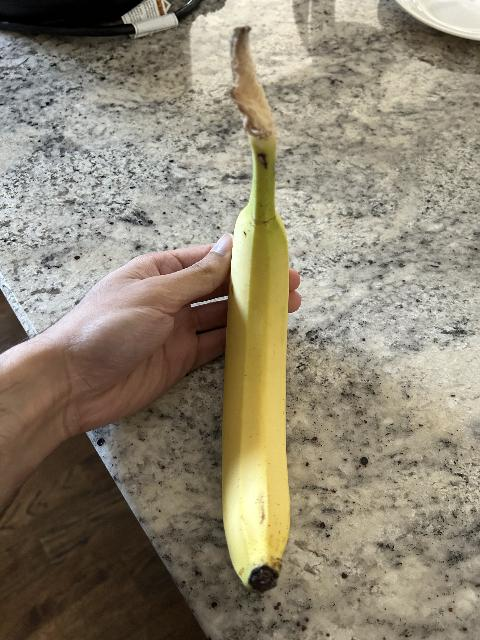Bananas: (226, 28, 292, 582)
